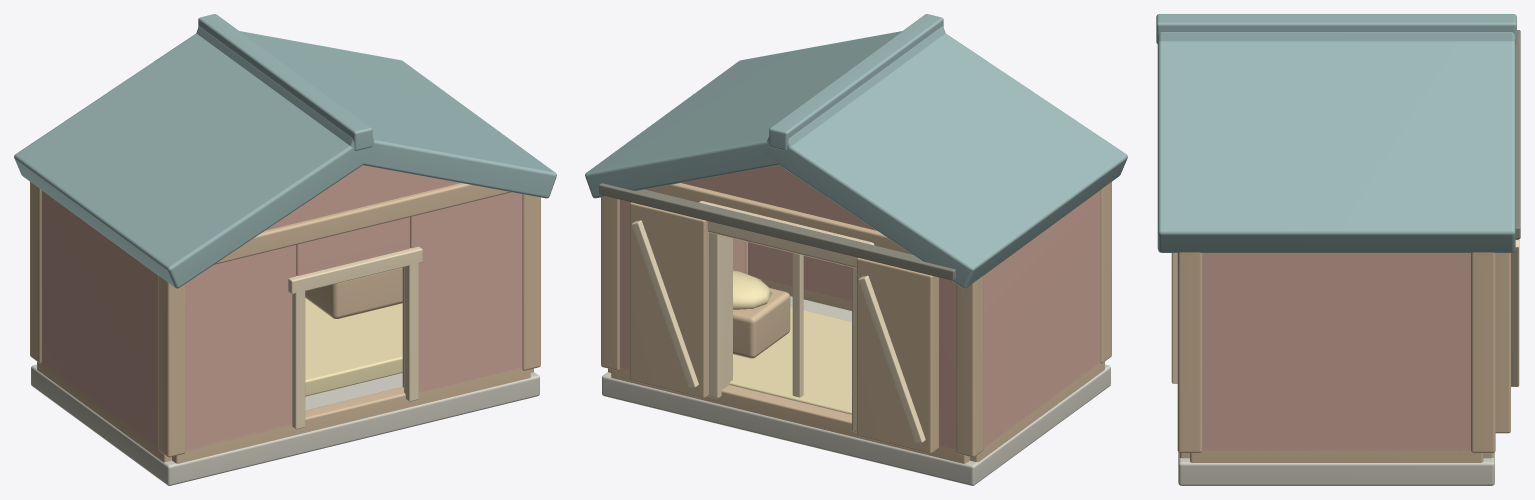
File: shelter-complete.glb
3 views of the same model, side by side, from view 1: azimuth 30°, elevation 25°; view 2: azimuth 150°, elevation 25°; view 3: azimuth 270°, elevation 25° (orthographic). The views are drawn at different scales.
Parts seen in each view (by area): view 1: Padded roof plane.002, Padded roof plane.003, Side panel.002, Front cladding.002, Front cladding.003, Rounded stone footing.003, Straw resting pad, Eave beam.004, Sill beam.012, Corner post.008, Ridge cap.001, Gable cladding.002 (+8 smaller); view 2: Padded roof plane.002, Padded roof plane.003, Side panel.002, Open sliding door.002, Open sliding door.003, Rounded stone footing.003, Straw resting pad, Door track.001, Corner post.009, Ridge cap.001, Gable cladding.003, Sill beam.013 (+16 smaller); view 3: Padded roof plane.003, Side panel.003, Rounded stone footing.003, Ridge cap.001, Corner post.010, Corner post.011, Sill beam.015, Padded roof plane.002, Open sliding door.003, Door diagonal brace.003, Door track.001, Front door jamb.003.
Boxes of the visible parts, x1=… form: Padded roof plane.002: x1=14, y1=33, x2=377, y2=288; Padded roof plane.003: x1=196, y1=26, x2=556, y2=198; Side panel.002: x1=41, y1=190, x2=157, y2=447; Front cladding.002: x1=186, y1=245, x2=296, y2=451; Front cladding.003: x1=402, y1=192, x2=522, y2=392; Rounded stone footing.003: x1=31, y1=364, x2=539, y2=485; Straw resting pad: x1=305, y1=298, x2=402, y2=396; Eave beam.004: x1=214, y1=183, x2=511, y2=264; Sill beam.012: x1=172, y1=367, x2=530, y2=463; Corner post.008: x1=158, y1=275, x2=185, y2=457; Ridge cap.001: x1=198, y1=14, x2=372, y2=150; Gable cladding.002: x1=265, y1=165, x2=460, y2=230; Padded roof plane.002: x1=764, y1=33, x2=1127, y2=288; Padded roof plane.003: x1=585, y1=26, x2=945, y2=198; Side panel.002: x1=984, y1=190, x2=1100, y2=447; Open sliding door.002: x1=856, y1=257, x2=938, y2=453; Open sliding door.003: x1=630, y1=202, x2=708, y2=398; Rounded stone footing.003: x1=602, y1=296, x2=1110, y2=485; Straw resting pad: x1=729, y1=307, x2=851, y2=414; Door track.001: x1=599, y1=183, x2=955, y2=280; Corner post.009: x1=956, y1=275, x2=983, y2=457; Ridge cap.001: x1=769, y1=14, x2=943, y2=150; Gable cladding.003: x1=681, y1=165, x2=876, y2=230; Sill beam.013: x1=611, y1=367, x2=969, y2=463; Padded roof plane.003: x1=1157, y1=41, x2=1515, y2=252; Side panel.003: x1=1202, y1=253, x2=1470, y2=450; Rounded stone footing.003: x1=1178, y1=452, x2=1494, y2=485; Ridge cap.001: x1=1156, y1=14, x2=1516, y2=43; Corner post.010: x1=1177, y1=252, x2=1202, y2=452; Corner post.011: x1=1471, y1=252, x2=1495, y2=452; Sill beam.015: x1=1190, y1=448, x2=1483, y2=462; Padded roof plane.002: x1=1157, y1=32, x2=1515, y2=42; Open sliding door.003: x1=1495, y1=253, x2=1510, y2=433; Door diagonal brace.003: x1=1511, y1=240, x2=1519, y2=386; Door track.001: x1=1515, y1=30, x2=1520, y2=238; Front door jamb.003: x1=1171, y1=253, x2=1177, y2=383.
Bounding box in the file's own units: 3.51 × 2.75 × 2.49.
